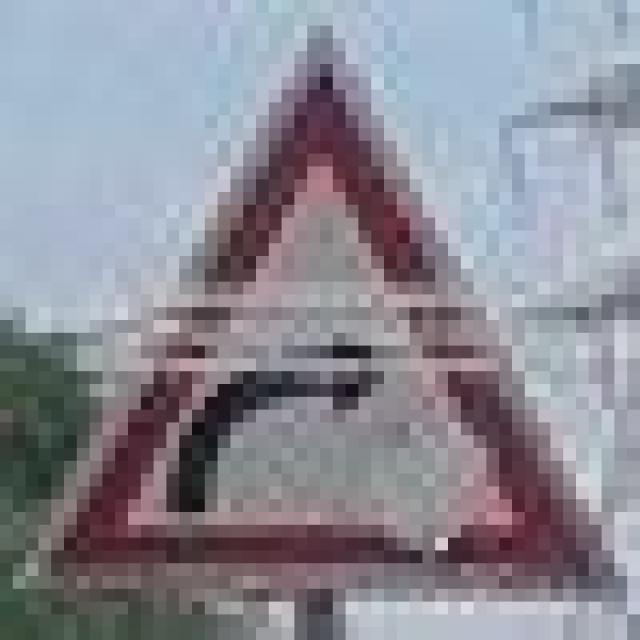RIGHT_HAND_CURVE: (0, 0, 614, 601)
